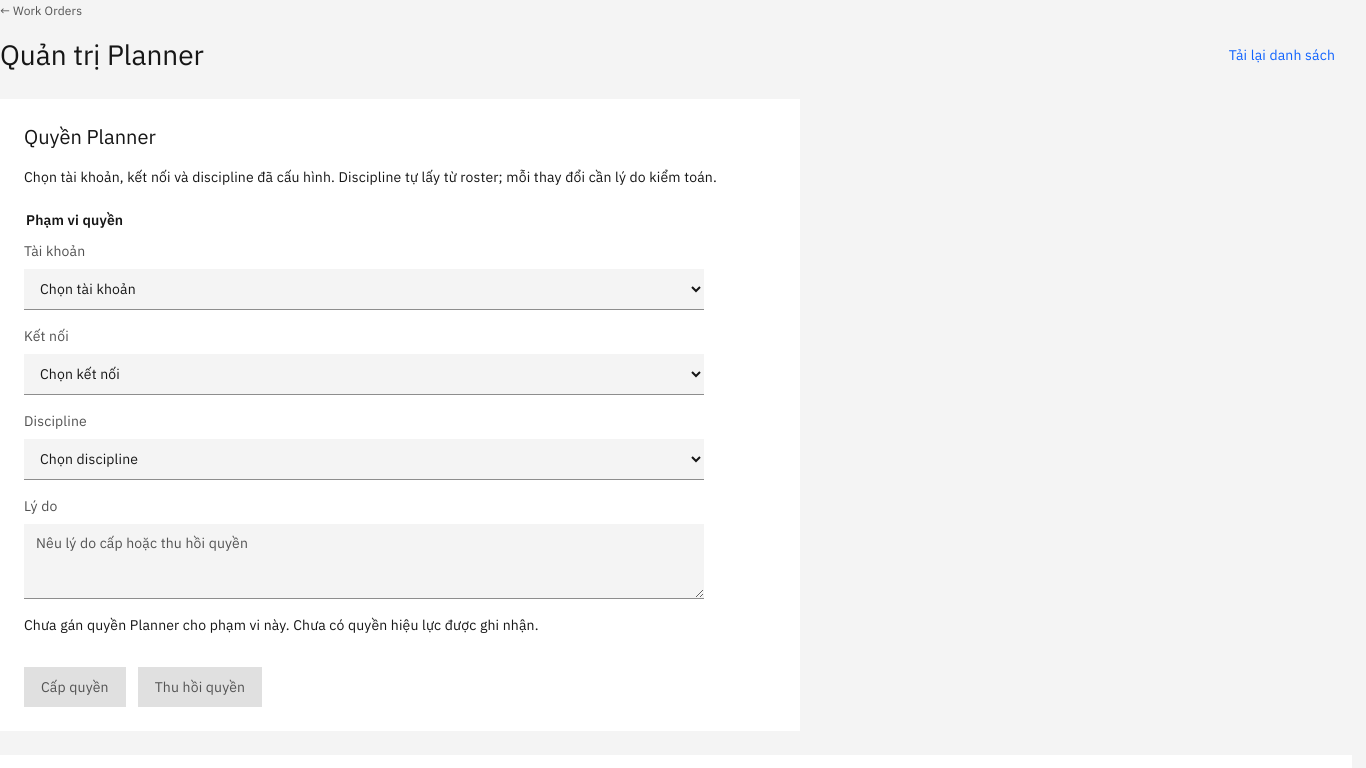
Test: fails closed when a session recheck fails and preserves intent after a recoverable PUT error
This screenshot has width=1366, height=768.
Step 1. Select "Planner" in the dropdown labelled "Tài khoản" → (364, 290), box [24,269,704,310]
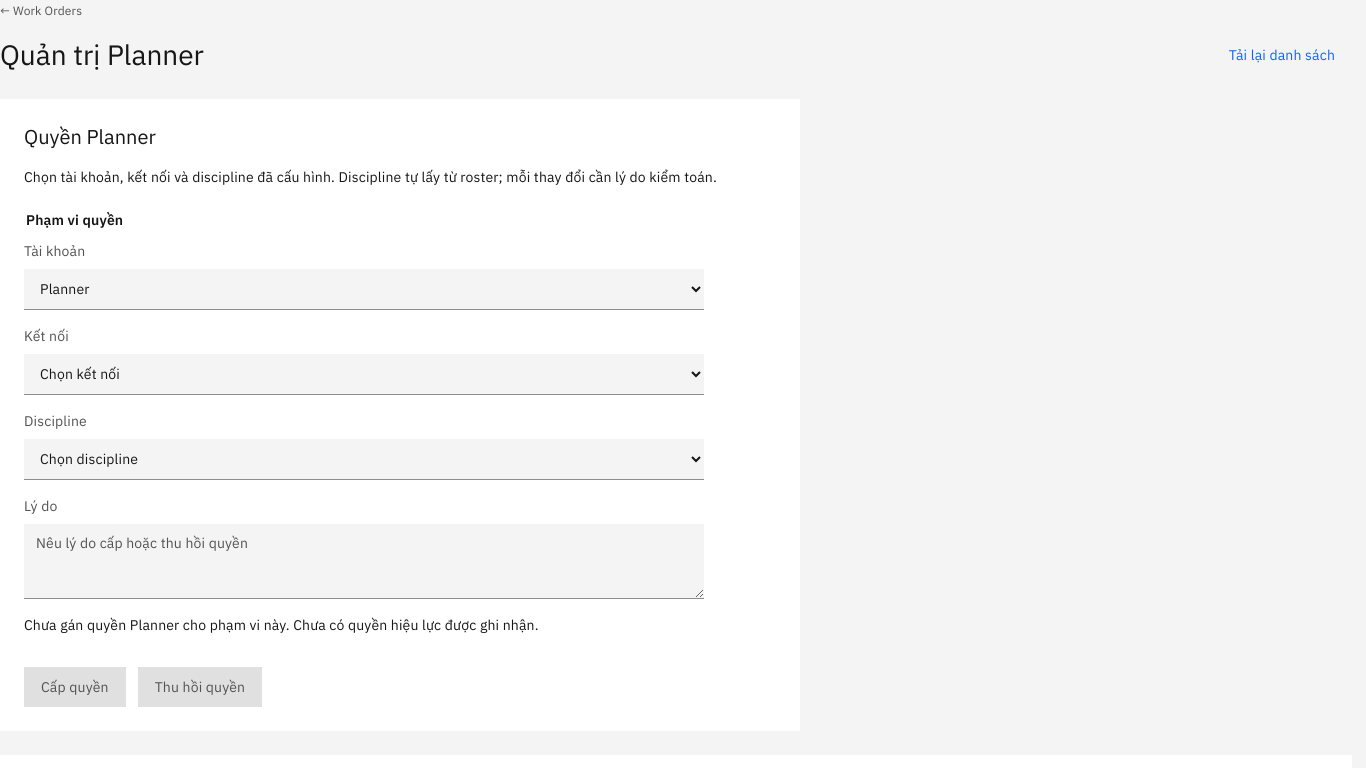
Step 2. Select "Onshore test · onshore · test" in the dropdown labelled "Kết nối" → (364, 374), box [24,354,704,395]
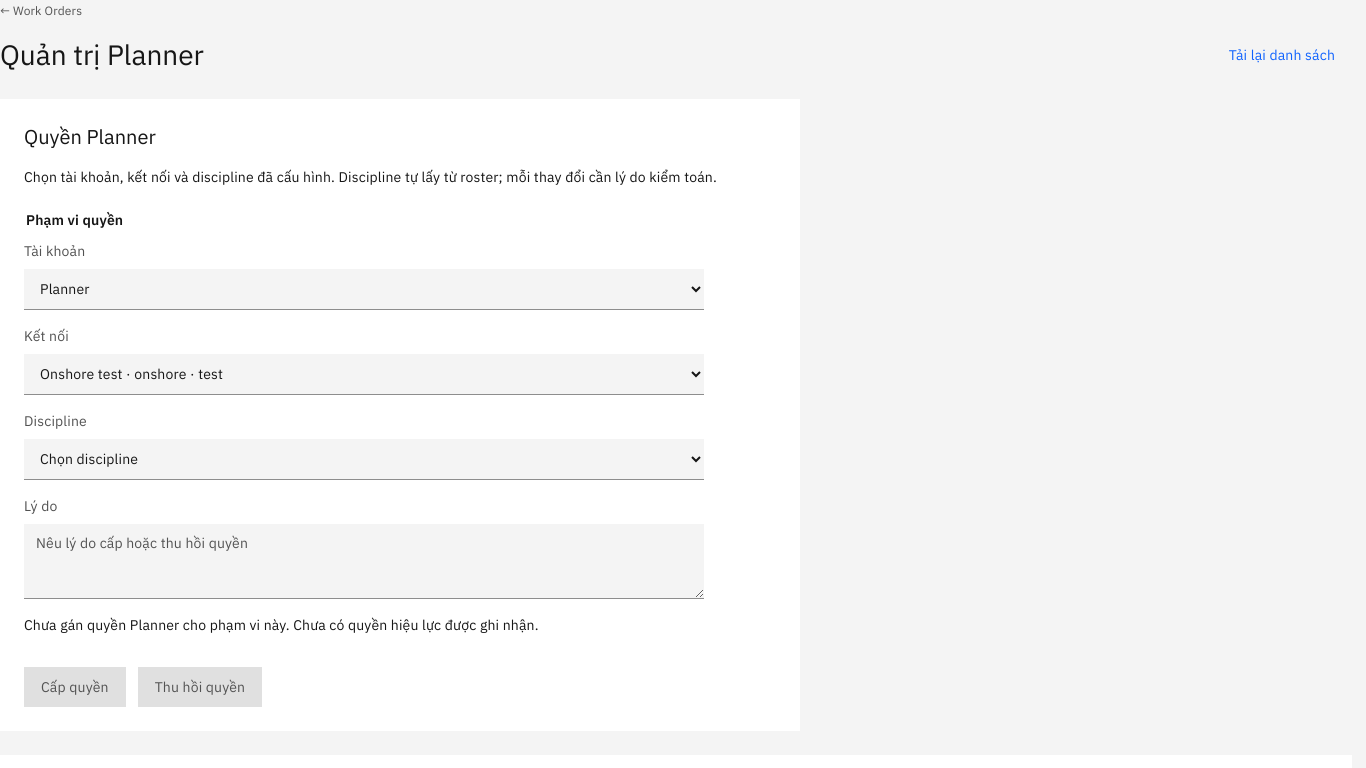
Step 3. Select "E&I" in the dropdown labelled "Discipline" → (364, 460), box [24,439,704,480]
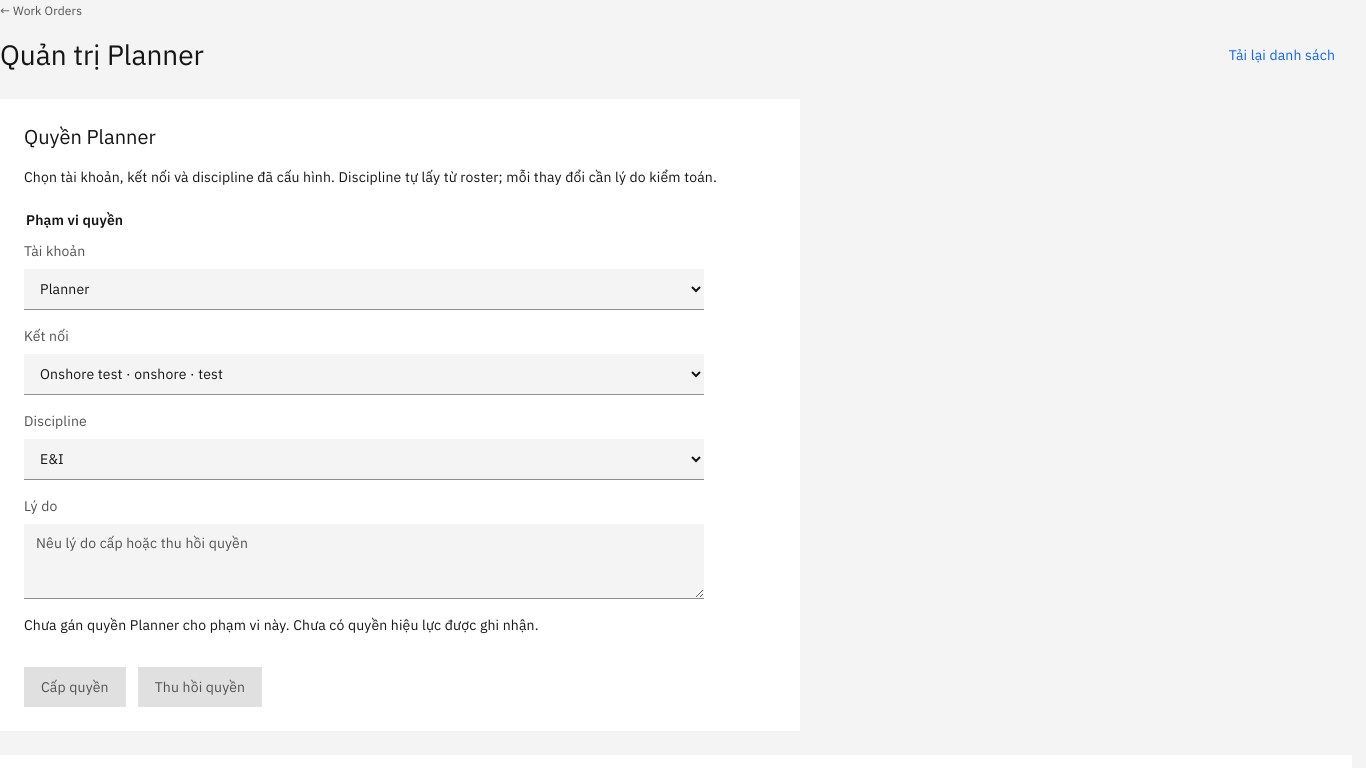
Step 4. Type "Keep this audit reason" into the text box labelled "Lý do" → (364, 562), box [24,524,704,599]
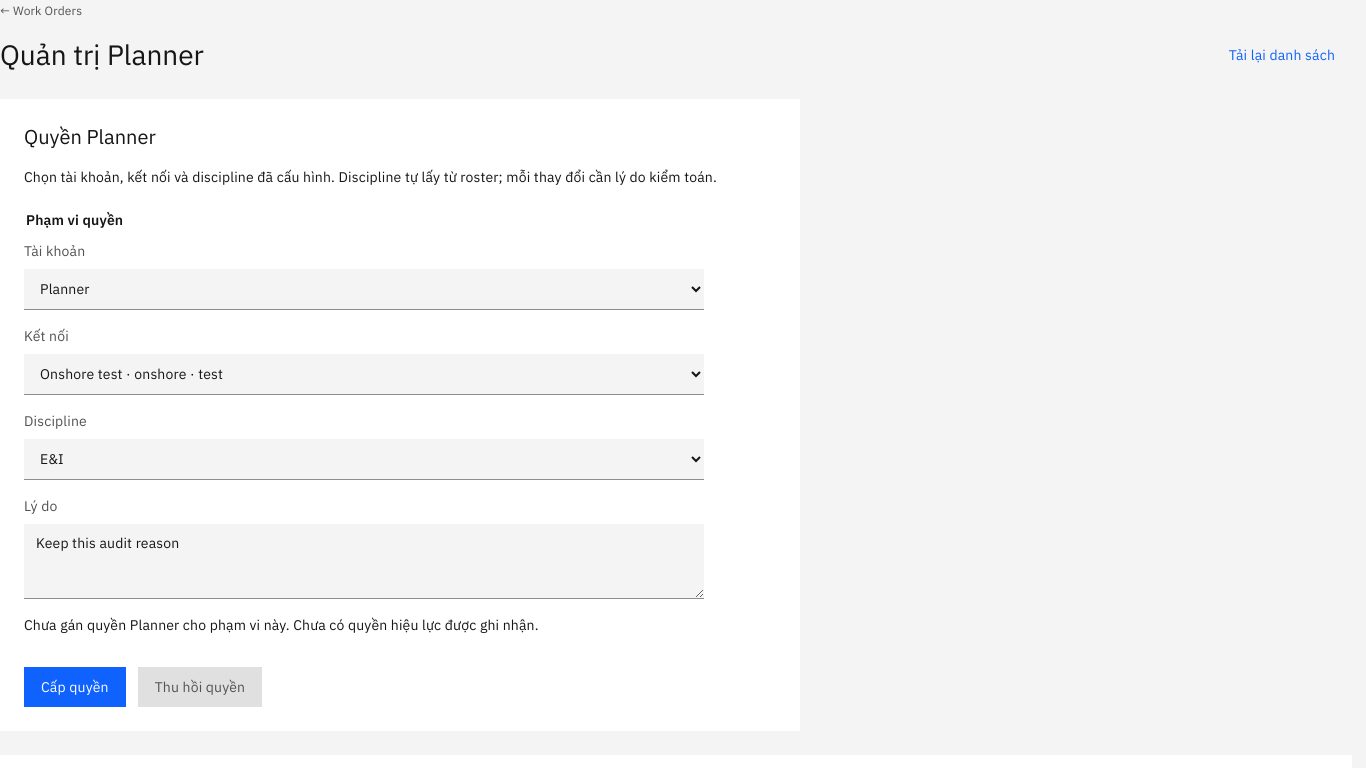
Step 5. Click the button "Cấp quyền" → (75, 687), box [24,667,126,707]
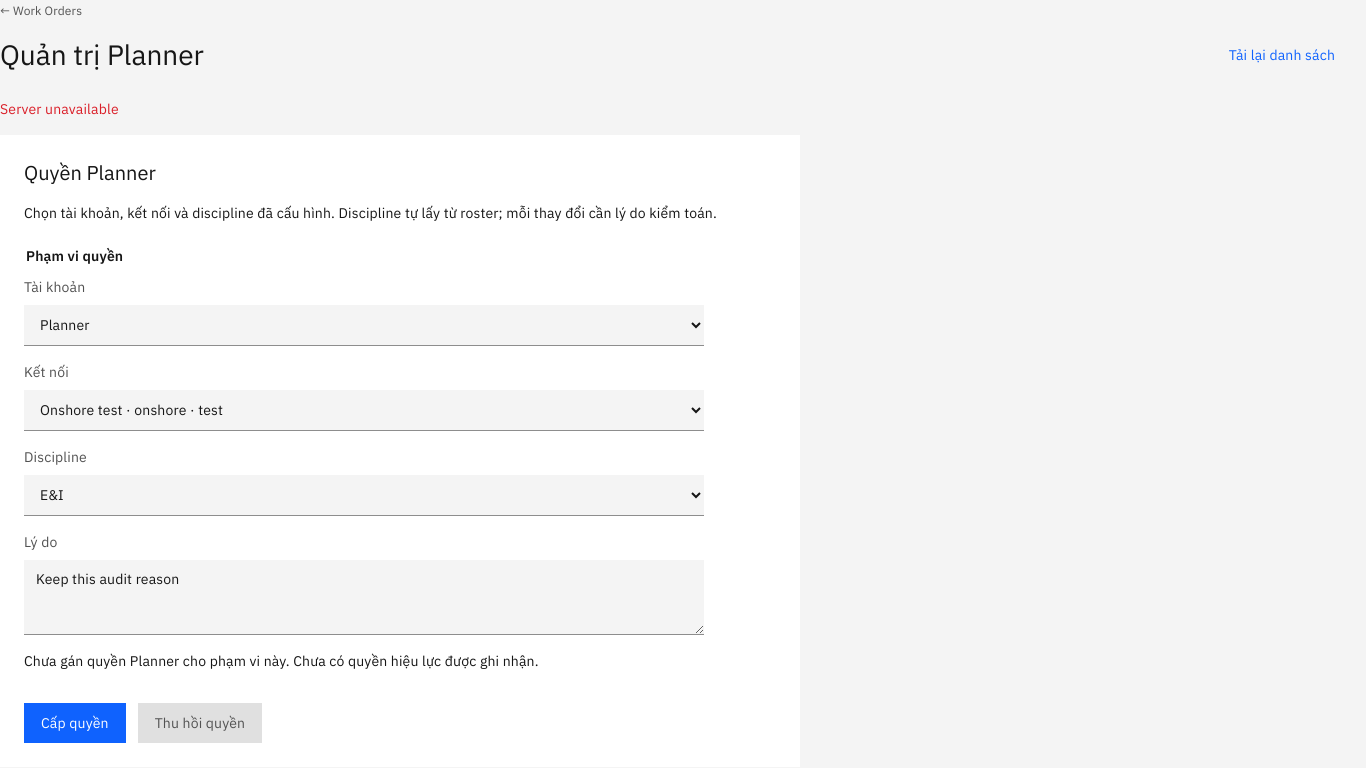
Check: the dropdown labelled "Tài khoản" shows "Planner", box [24,305,704,346]
Check: the text box labelled "Lý do" holds "Keep this audit reason", box [24,560,704,635]
Check: the text "Server unavailable" is shown, box [0,100,119,118]
Step 6. Click the button "Tải lại danh sách" → (1282, 55), box [1212,35,1352,75]
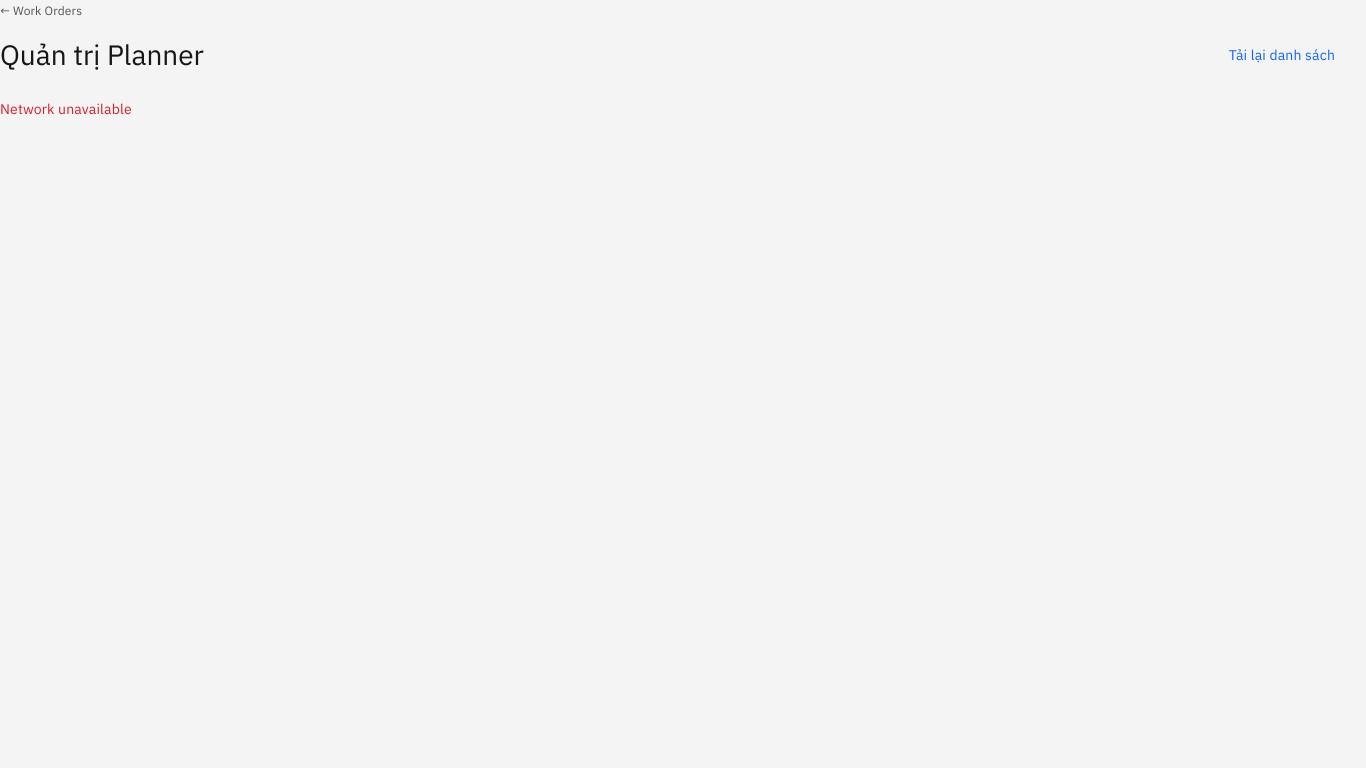
Check: the text "Network unavailable" is shown, box [0,100,132,118]
Check: the text labelled "Lý do" is gone
